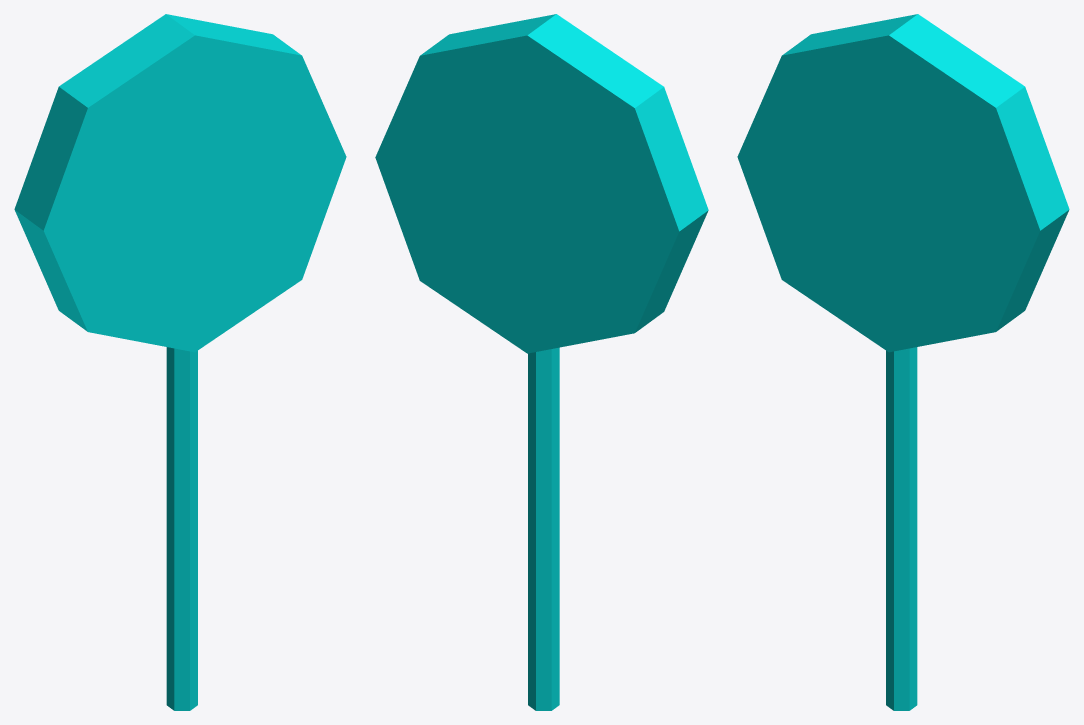
File: SM_Prop_Gingerbread_Lollypop_01_Collision.fbx
The picture shows the model from 3 angles, left to right: view 1: azimuth 30°, elevation 25°; view 2: azimuth 150°, elevation 25°; view 3: azimuth 330°, elevation 25°; orthographic projection.
Visible parts, largest first — view 1: SM_Prop_Gingerbread_Lollypop_01_Collision; view 2: SM_Prop_Gingerbread_Lollypop_01_Collision; view 3: SM_Prop_Gingerbread_Lollypop_01_Collision.
Boxes of the visible parts, x1,y1,x2,y2 form: SM_Prop_Gingerbread_Lollypop_01_Collision: (14, 14, 346, 710); SM_Prop_Gingerbread_Lollypop_01_Collision: (375, 14, 708, 710); SM_Prop_Gingerbread_Lollypop_01_Collision: (737, 14, 1069, 710).
Size of the model in its own units: 70.26 by 151 by 11.74.
